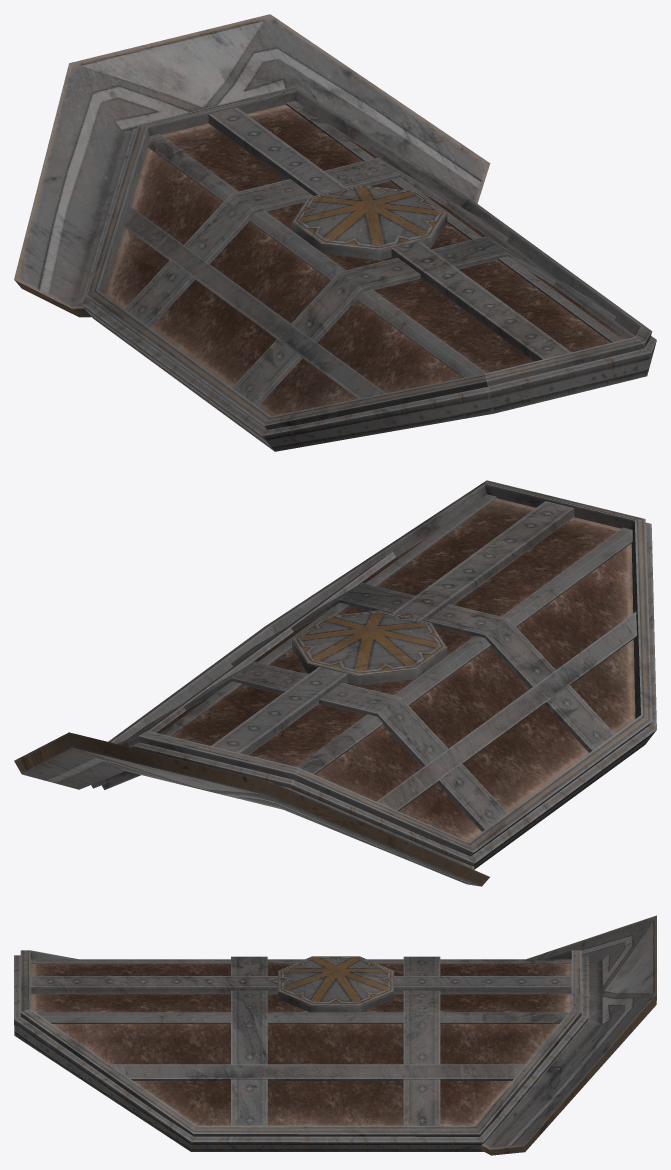
Rendered from sm_dwarf_erebor_shield_tower_f.fbx.
The picture shows the model from 3 angles, top to bottom: view 1: azimuth 30°, elevation 25°; view 2: azimuth 150°, elevation 25°; view 3: azimuth 270°, elevation 25°; orthographic projection. The views are drawn at different scales.
Parts seen in each view (by area): view 1: sm_dwarf_erebor_shield_tower_f; view 2: sm_dwarf_erebor_shield_tower_f; view 3: sm_dwarf_erebor_shield_tower_f.
Boxes of the visible parts, x1,y1,x2,y2 form: sm_dwarf_erebor_shield_tower_f: [14, 14, 656, 451]; sm_dwarf_erebor_shield_tower_f: [14, 480, 656, 886]; sm_dwarf_erebor_shield_tower_f: [14, 915, 656, 1155].
Size of the model in its own units: 0.7982 by 1.16 by 0.2508.
Materials: 1 (1 with a texture image).
